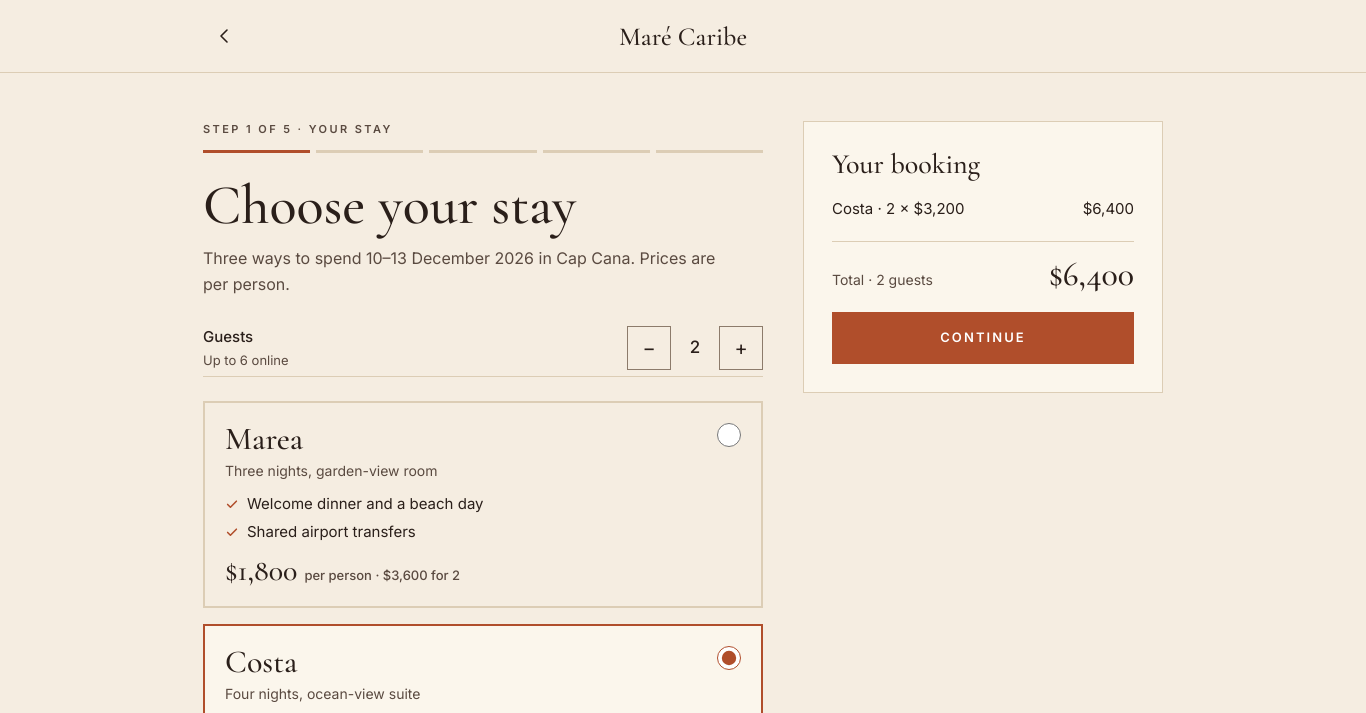
Choose (step 1) › announces new prices when the guest count changes, and caps at 6
Expected: the text "Marea" is shown, [225,418,303,458]
What coordinates should you click on to do the following:
click the button named "More guests"
I would click on:
 (741, 348)
Its box is [719,326,763,370].
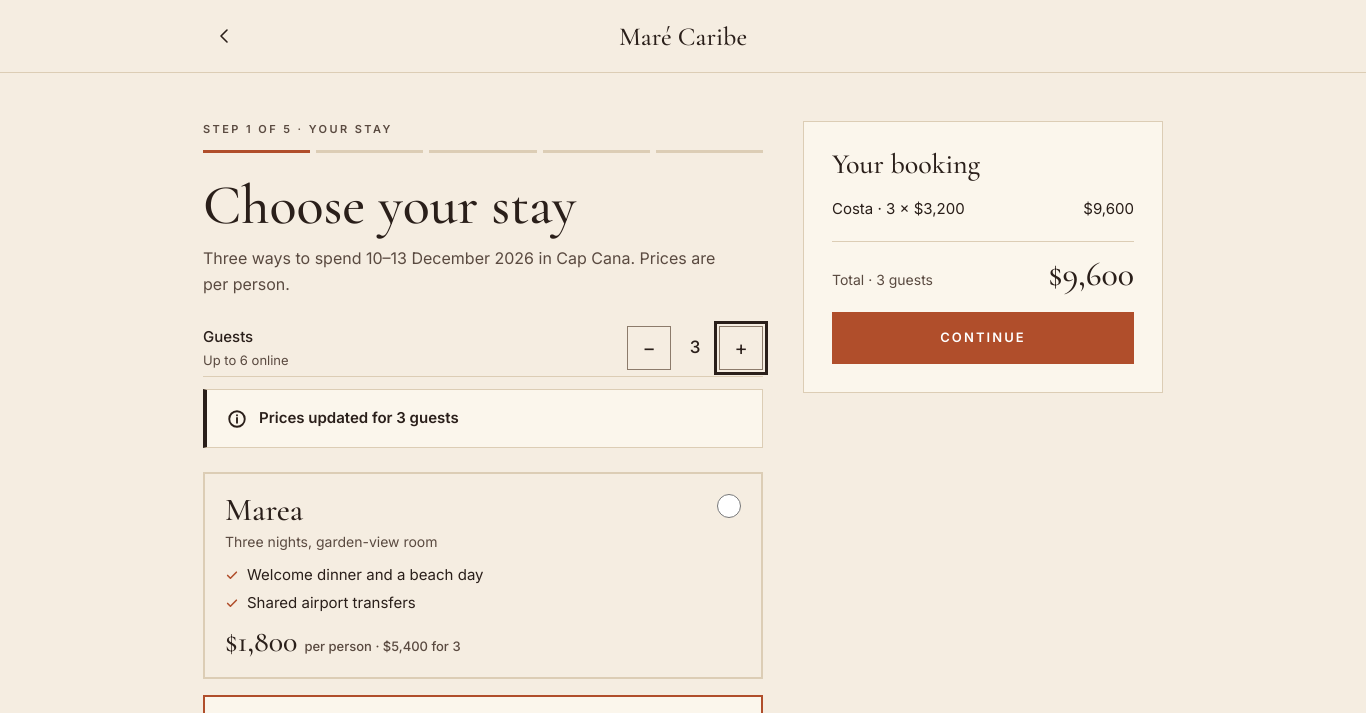
Expected: the message reads "Prices updated for 3 guests", [259,408,459,426]
What coordinates should you click on to do the following:
click the button named "More guests"
I would click on:
 (741, 348)
Its box is [719,326,763,370].
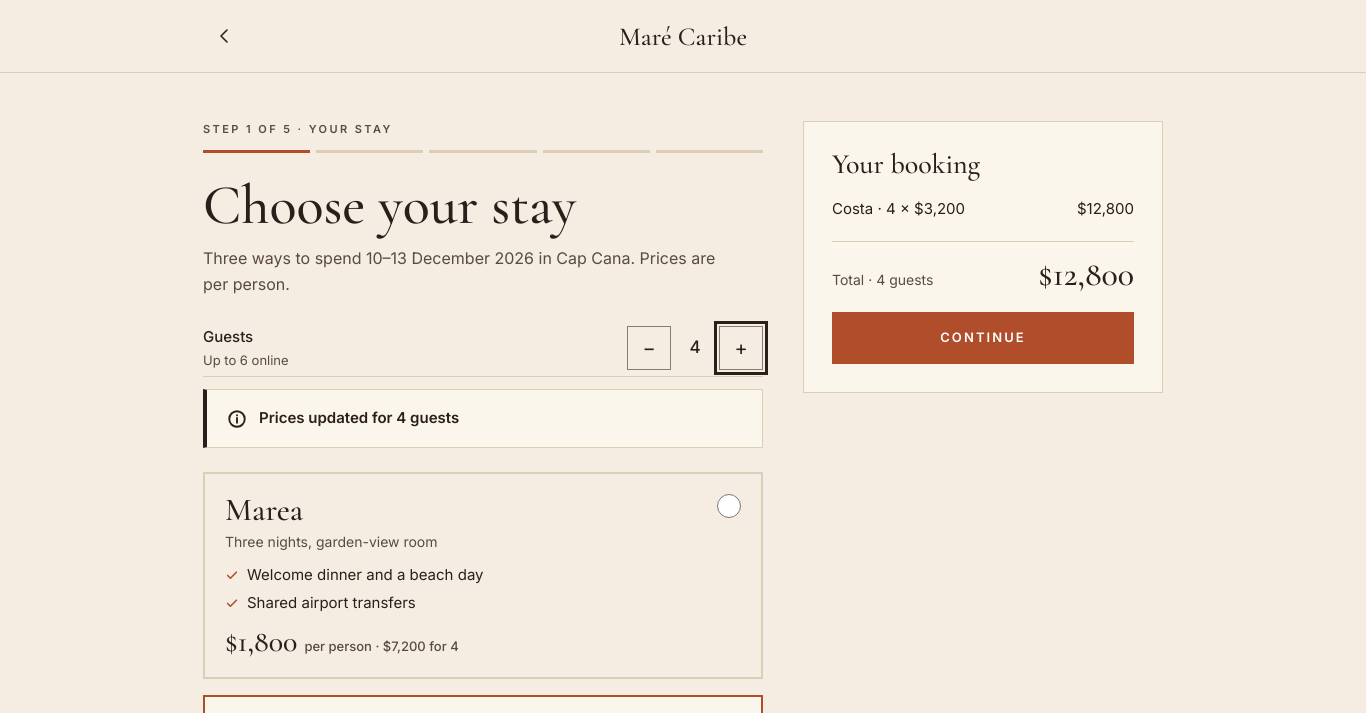
What coordinates should you click on to do the following:
click the button named "More guests"
I would click on:
 (741, 348)
Its box is [719,326,763,370].
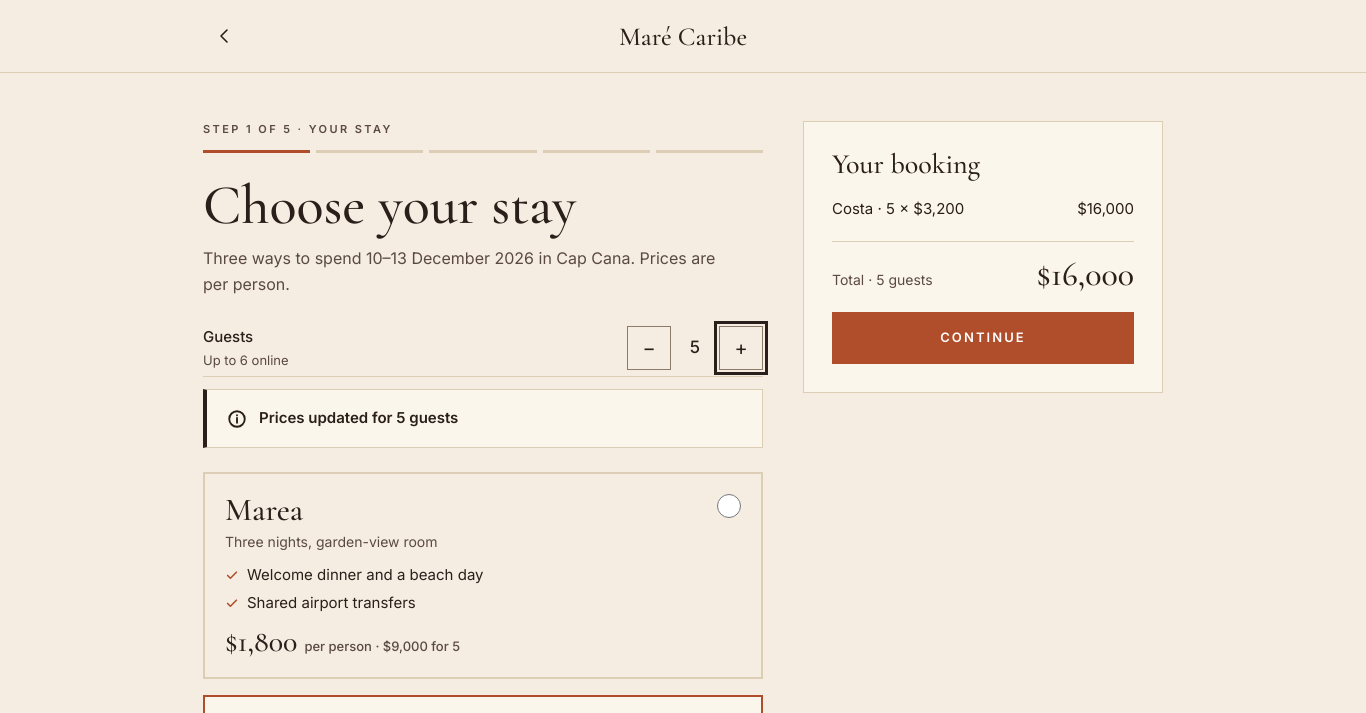
What coordinates should you click on to do the following:
click the button named "More guests"
I would click on:
 (741, 348)
Its box is [719,326,763,370].
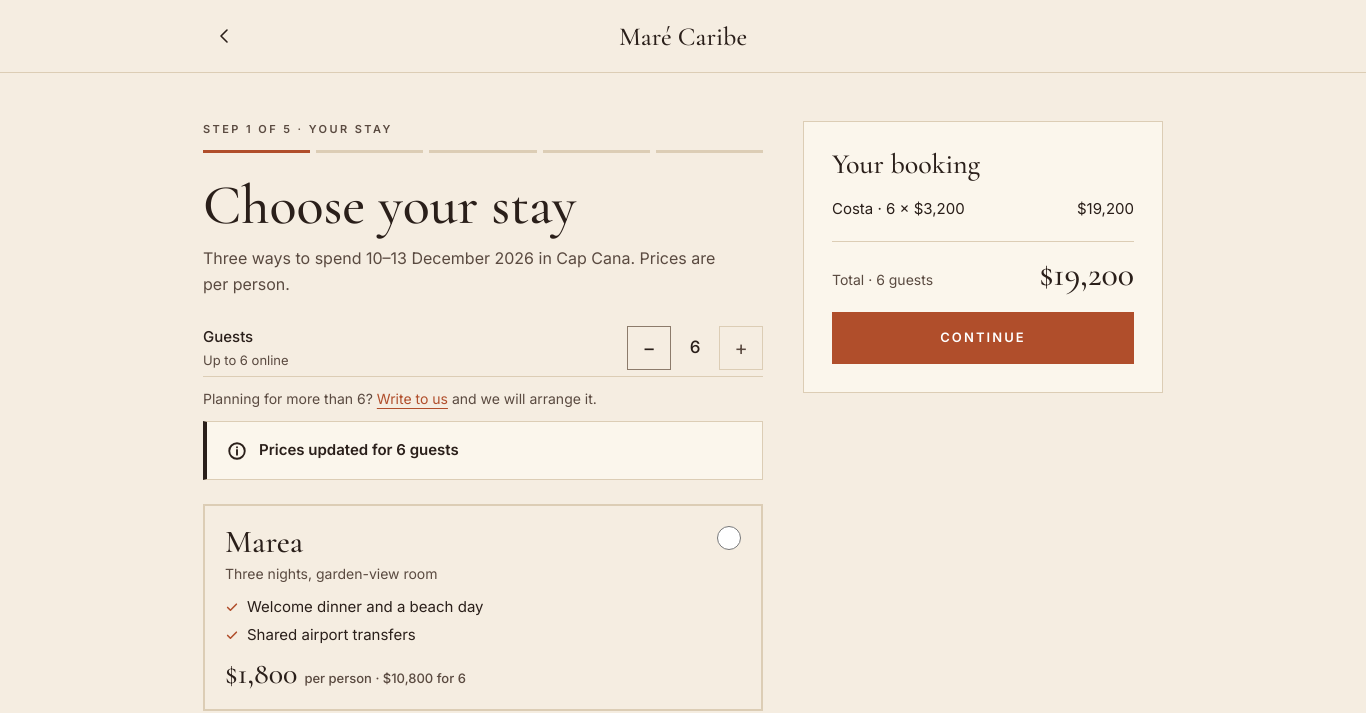
Expected: the text "Planning for more than 6" is shown, [203,390,597,406]
